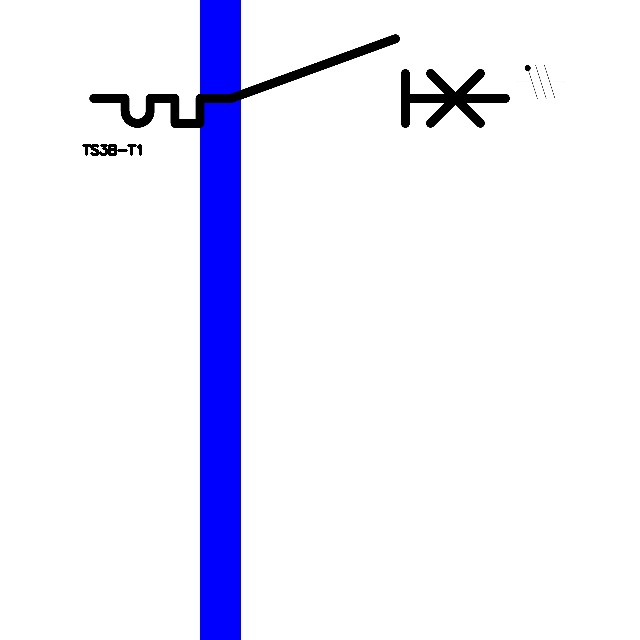interruptor_termomagnetico: (83, 28, 515, 134)
